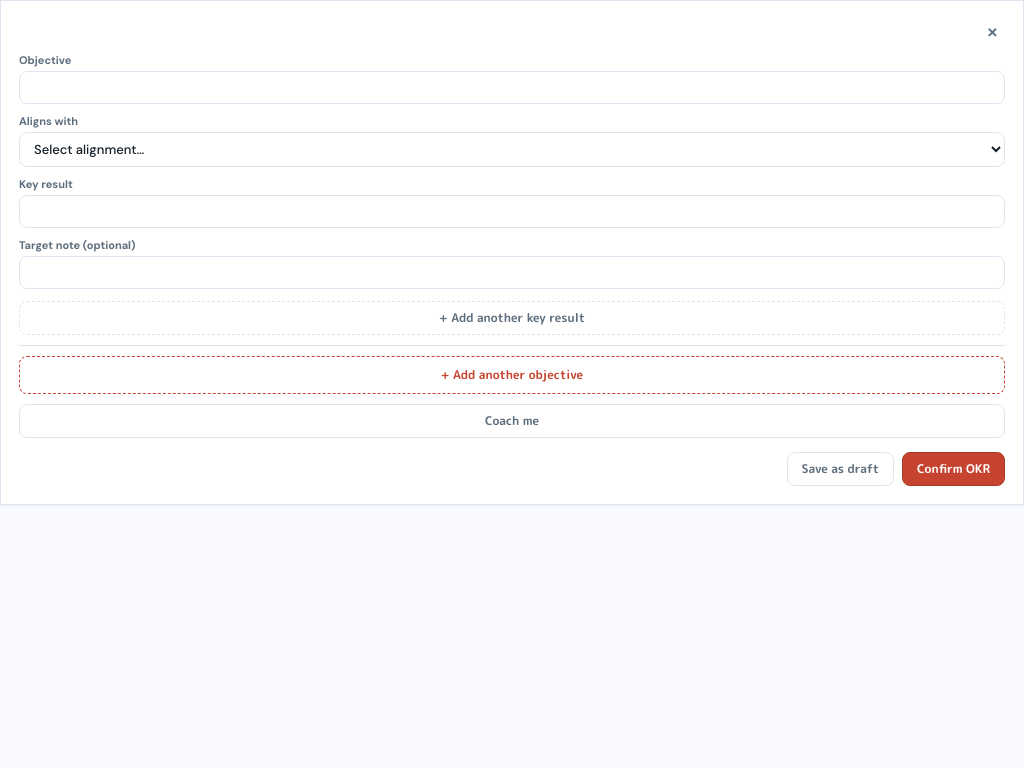
Test: OkrDialog › expands the two coaching questions inline in the same dialog when "Coach me" is clicked
This screenshot has width=1024, height=768.
Expected: the text "これが達成されたら、他の誰か" is not shown
Step 1. Click the button "Coach me" → coordinates (512, 421), box x1=19 y1=404 x2=1005 y2=438
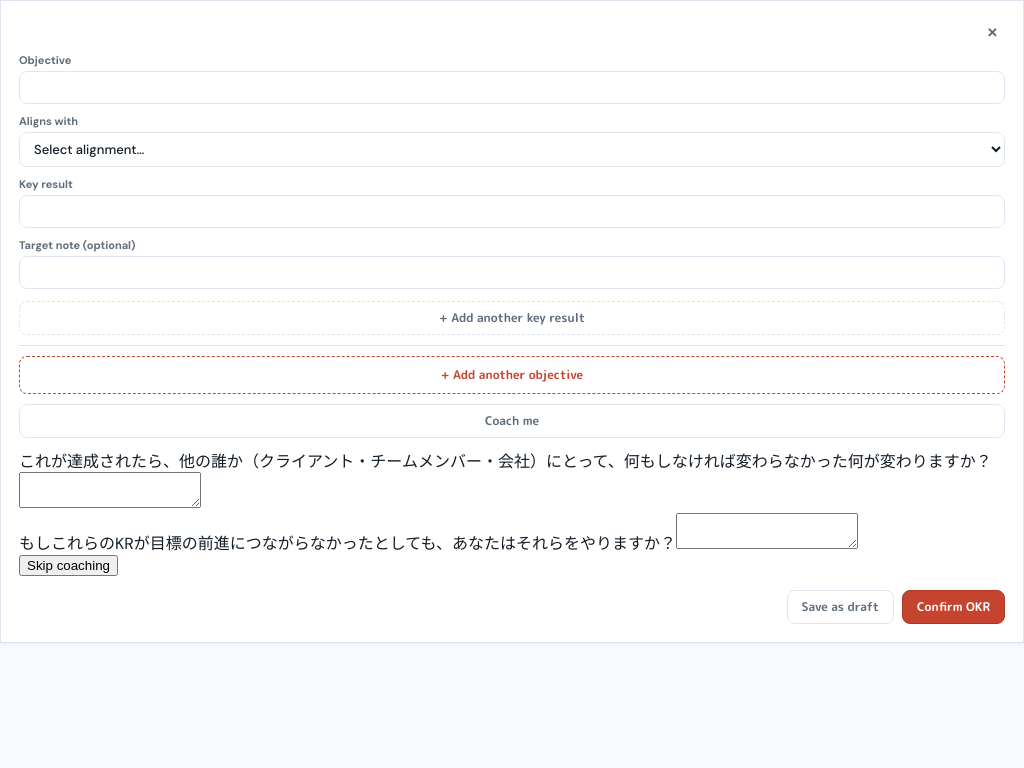
Result: the text "これが達成されたら、他の誰か" is shown at x1=19 y1=451 x2=992 y2=472
Result: the text "もしこれらのKRが目標の前進につながらなかったとしても、あなたはそれらをやりますか？" is shown at x1=19 y1=533 x2=676 y2=554
